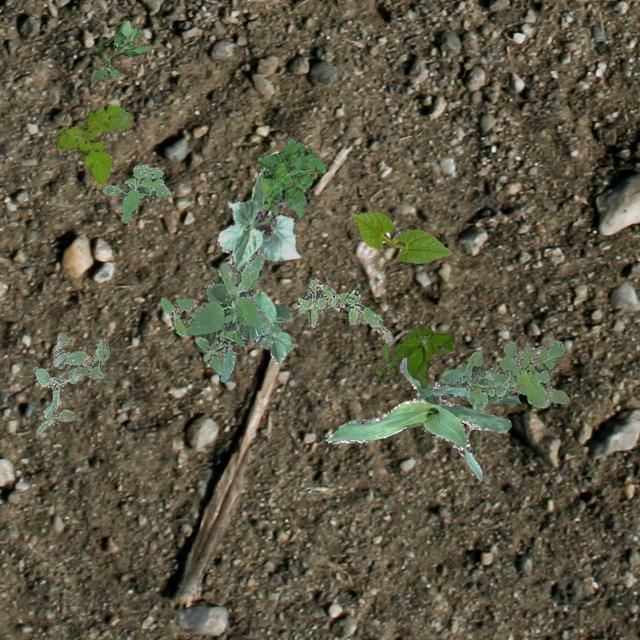crop: (324, 356, 518, 478), (216, 166, 300, 270), (352, 210, 449, 262), (250, 287, 294, 363)
weed: (183, 250, 270, 382), (440, 339, 568, 408), (32, 332, 108, 436), (54, 102, 130, 188), (296, 278, 392, 342), (256, 136, 324, 218), (372, 324, 452, 388), (90, 18, 152, 82), (102, 163, 168, 220), (158, 296, 198, 334)
